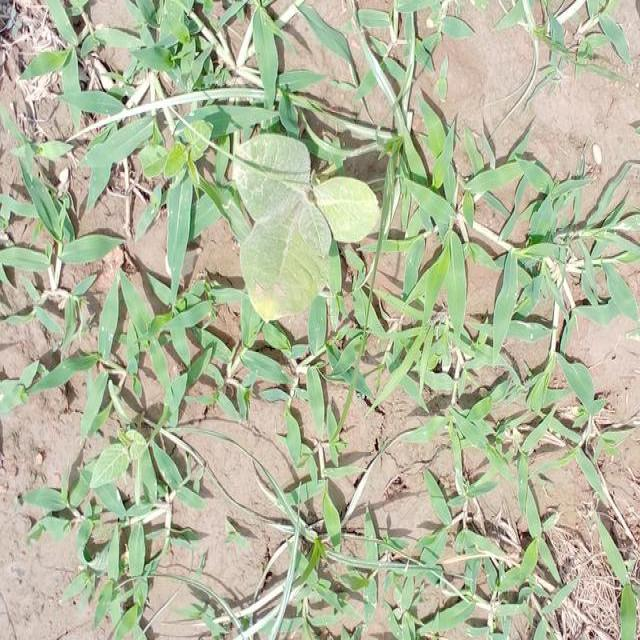crop: (226, 131, 382, 325)
